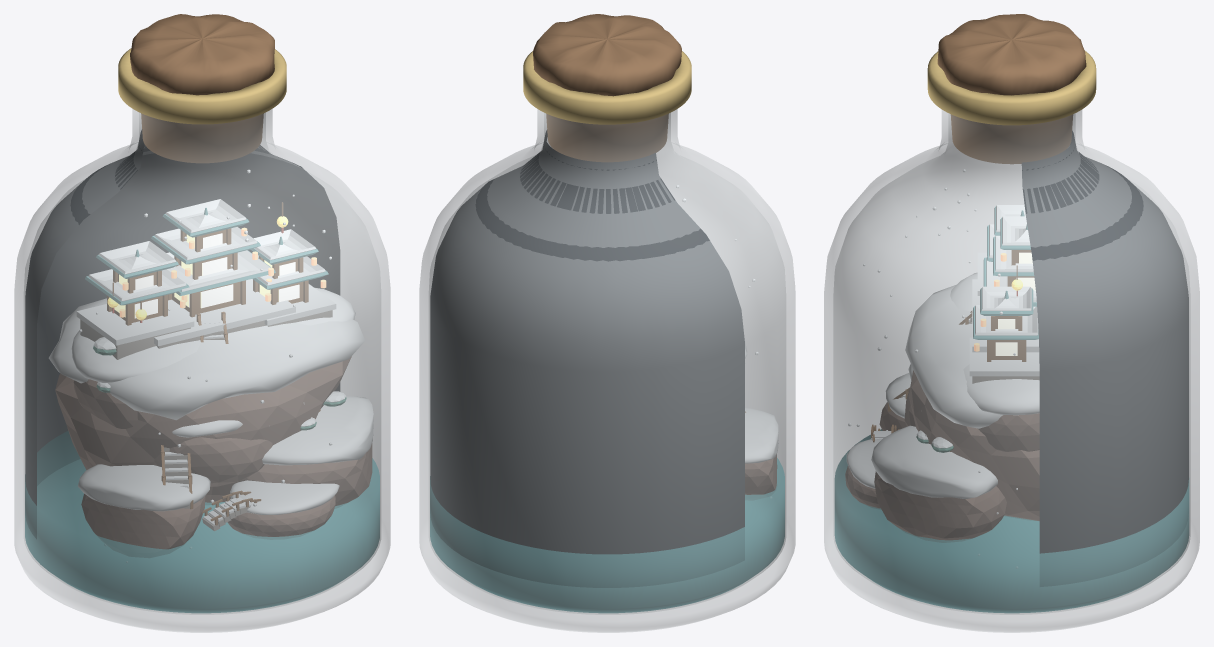
The picture shows the model from 3 angles, left to right: view 1: azimuth 30°, elevation 25°; view 2: azimuth 150°, elevation 25°; view 3: azimuth 270°, elevation 25°; orthographic projection.
Parts seen in each view (by area): view 1: Glass_Bottle, Bottle_Dark_Backdrop, Water_Base, Cliff_Main_Core_Snow, Wooden_Cork_Stopper, Cliff_Main_Core, Brass_Collar, Cliff_Lower_Right_Shore_Snow, Cliff_Lower_Left_Shore_Snow, Cliff_Lower_Left_Shore, Cliff_Mid_Center, Cliff_Upper_Left_Snow (+19 smaller); view 2: Glass_Bottle, Bottle_Dark_Backdrop, Water_Base, Wooden_Cork_Stopper, Brass_Collar, Cliff_Lower_Left_Shore_Snow, Cliff_Lower_Left_Shore; view 3: Glass_Bottle, Bottle_Dark_Backdrop, Water_Base, Wooden_Cork_Stopper, Cliff_Main_Core_Snow, Brass_Collar, Cliff_Main_Core, Cliff_Lower_Right_Shore_Snow, Cliff_Lower_Right_Shore, Cliff_Upper_Right_Snow, Cliff_Upper_Right, Upper_Right_Snow_Pad (+9 smaller).
Boxes of the visible parts, bbox=[...] form: Glass_Bottle: bbox=[14, 109, 390, 632]; Bottle_Dark_Backdrop: bbox=[25, 129, 340, 505]; Water_Base: bbox=[25, 431, 379, 613]; Cliff_Main_Core_Snow: bbox=[49, 298, 364, 419]; Wooden_Cork_Stopper: bbox=[130, 14, 274, 163]; Cliff_Main_Core: bbox=[55, 356, 351, 502]; Brass_Collar: bbox=[118, 48, 286, 124]; Cliff_Lower_Right_Shore_Snow: bbox=[262, 395, 373, 465]; Cliff_Lower_Left_Shore_Snow: bbox=[78, 464, 210, 511]; Cliff_Lower_Left_Shore: bbox=[81, 494, 205, 549]; Cliff_Mid_Center: bbox=[154, 437, 272, 486]; Cliff_Upper_Left_Snow: bbox=[71, 331, 200, 382]; Glass_Bottle: bbox=[419, 109, 795, 632]; Bottle_Dark_Backdrop: bbox=[430, 130, 744, 554]; Water_Base: bbox=[430, 458, 784, 613]; Wooden_Cork_Stopper: bbox=[533, 14, 681, 162]; Brass_Collar: bbox=[523, 51, 691, 124]; Cliff_Lower_Left_Shore_Snow: bbox=[745, 407, 778, 463]; Cliff_Lower_Left_Shore: bbox=[745, 454, 777, 494]; Glass_Bottle: bbox=[824, 110, 1199, 632]; Bottle_Dark_Backdrop: bbox=[1021, 130, 1188, 553]; Water_Base: bbox=[834, 429, 1189, 613]; Wooden_Cork_Stopper: bbox=[937, 14, 1086, 164]; Cliff_Main_Core_Snow: bbox=[905, 285, 1002, 428]; Brass_Collar: bbox=[927, 50, 1096, 125]; Cliff_Main_Core: bbox=[908, 370, 1039, 520]; Cliff_Lower_Right_Shore_Snow: bbox=[871, 425, 997, 498]; Cliff_Lower_Right_Shore: bbox=[874, 472, 1006, 540]; Cliff_Upper_Right_Snow: bbox=[963, 364, 1039, 415]; Cliff_Upper_Right: bbox=[978, 413, 1039, 451]; Upper_Right_Snow_Pad: bbox=[969, 337, 1039, 376].
Size of the model in its own units: 0.6526 by 1 by 0.6526.
